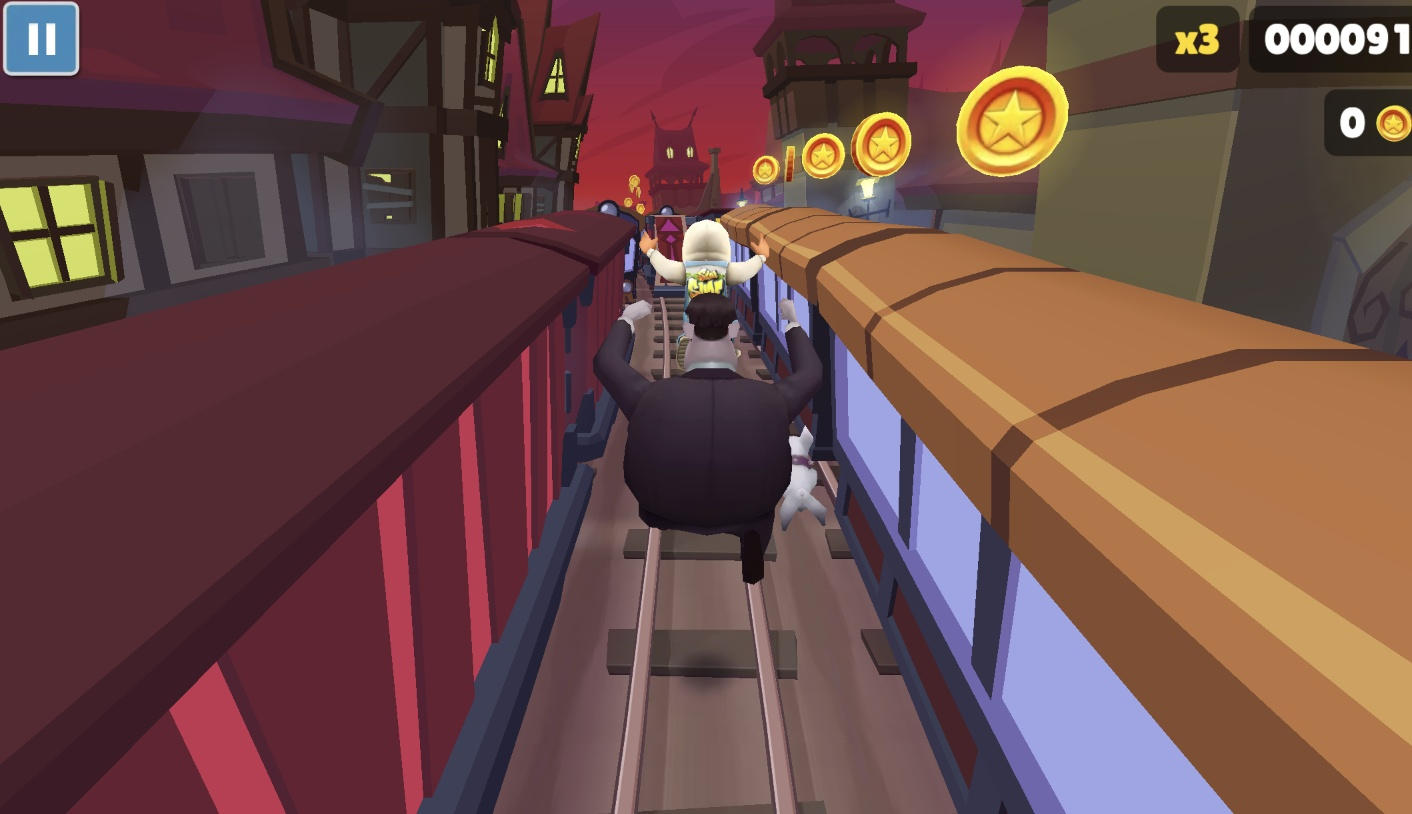train: (719, 204, 1412, 814), (0, 209, 635, 814), (589, 200, 647, 324), (643, 205, 695, 300), (691, 212, 731, 282)
